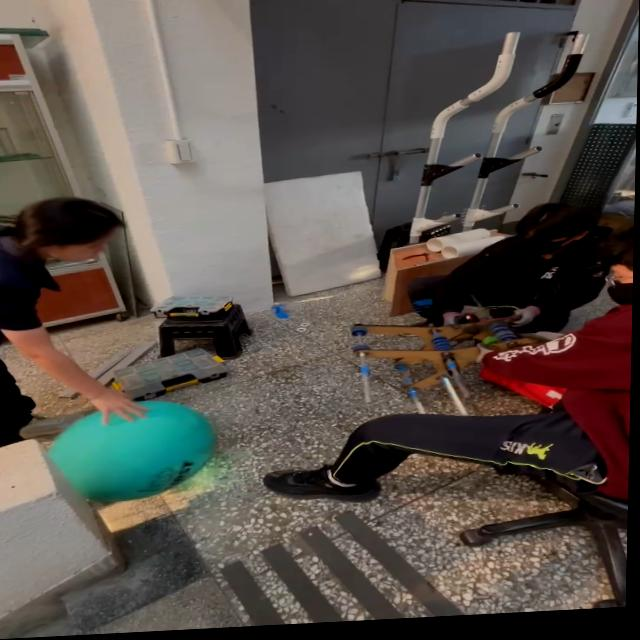ALGAE: (44, 396, 220, 507)
